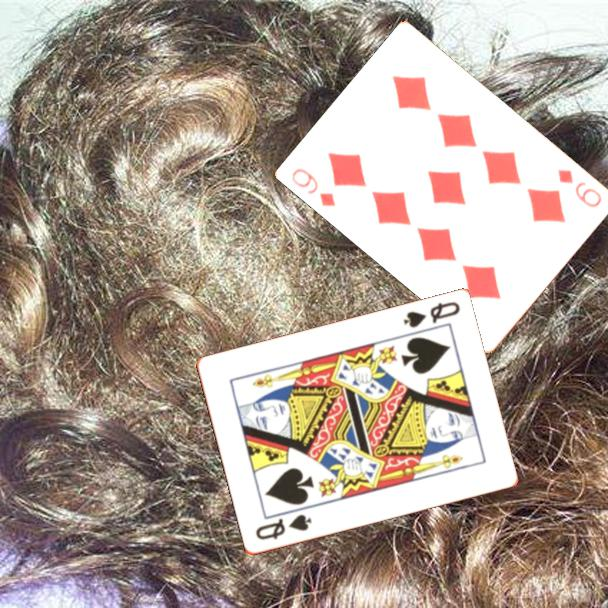d09: (288, 164, 339, 210), (555, 166, 605, 210)
s12: (399, 298, 463, 331), (252, 511, 314, 543)
